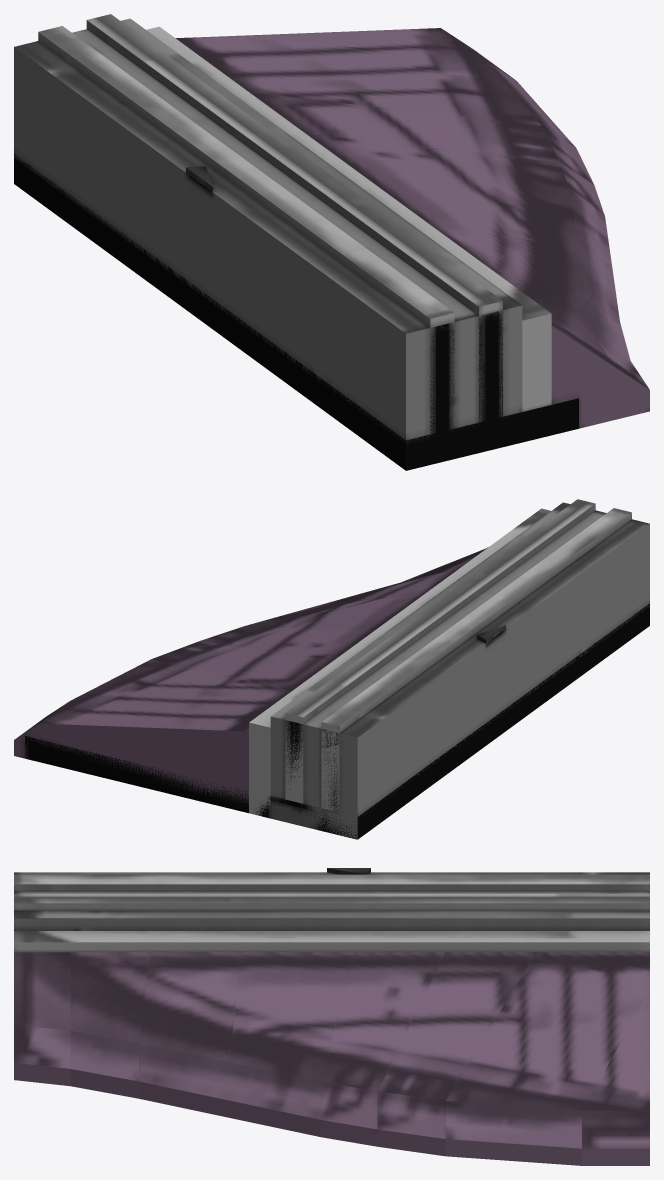
File: newshb-123.glb
3 views of the same model, one above another, from view 1: azimuth 30°, elevation 25°; view 2: azimuth 150°, elevation 25°; view 3: azimuth 270°, elevation 25° (orthographic). The views are drawn at different scales.
Visible parts, largest first — view 1: newshb-123; view 2: newshb-123; view 3: newshb-123.
Boxes of the visible parts, x1,y1,x2,y2 form: newshb-123: [14, 14, 649, 470]; newshb-123: [14, 499, 649, 839]; newshb-123: [14, 868, 649, 1165].
Size of the model in its own units: 1.58 by 0.48 by 2.33.
5 materials, 5 textured.
